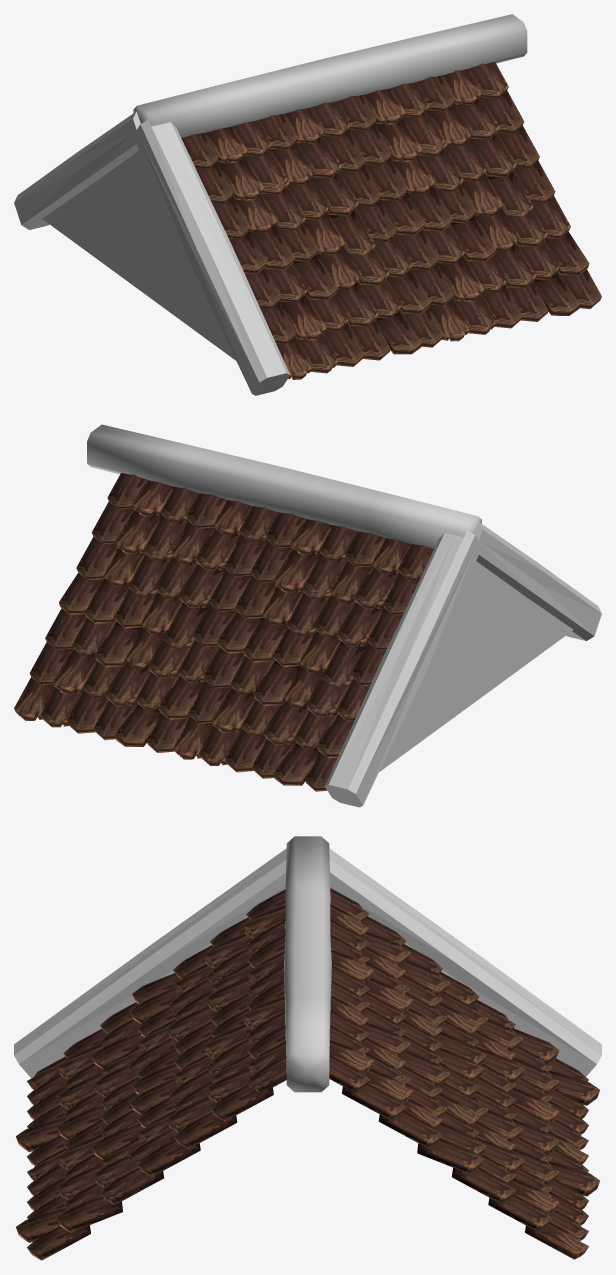
File: VV-RoofTile14.fbx
The picture shows the model from 3 angles, top to bottom: view 1: azimuth 30°, elevation 25°; view 2: azimuth 150°, elevation 25°; view 3: azimuth 270°, elevation 25°; orthographic projection. The views are drawn at different scales.
Parts seen in each view (by area): view 1: RoofTile.14; view 2: RoofTile.14; view 3: RoofTile.14.
Part boxes in pixels (bbox=[...]): RoofTile.14: bbox=[14, 14, 601, 395]; RoofTile.14: bbox=[14, 424, 601, 807]; RoofTile.14: bbox=[14, 836, 601, 1260].
Size of the model in its own units: 4.36 by 2.23 by 4.93.
